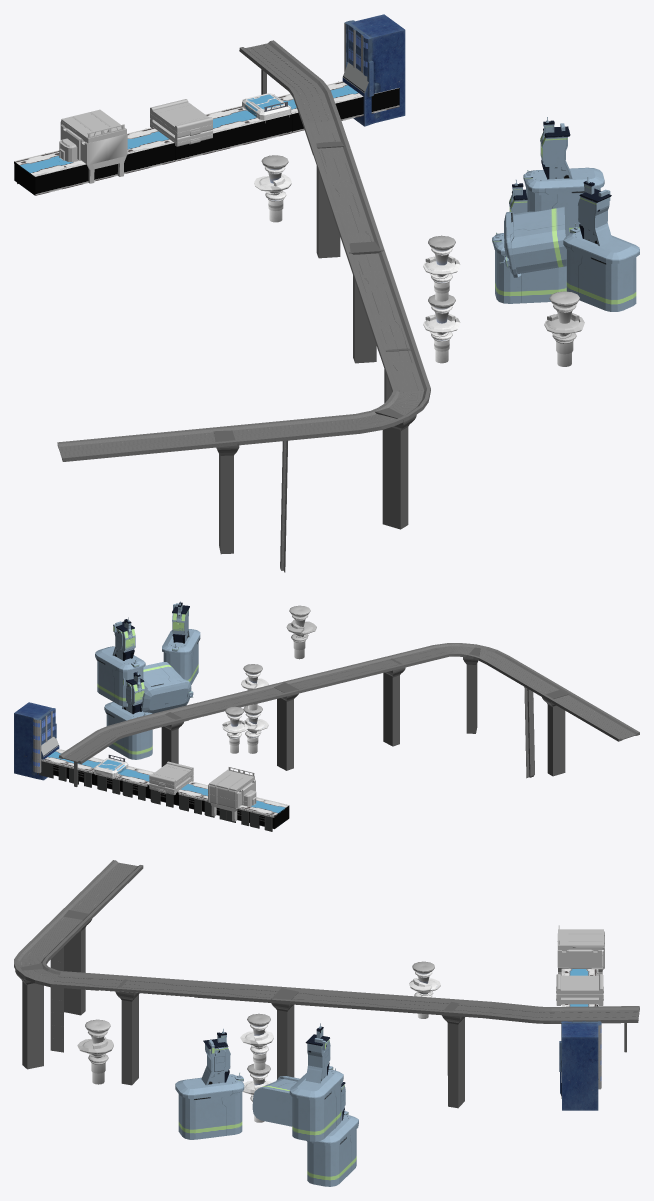
File: CityALL.fbx
3 renders of one model, top to bottom at view 1: azimuth 30°, elevation 25°; view 2: azimuth 150°, elevation 25°; view 3: azimuth 270°, elevation 25°, orthographic. The views are drawn at different scales.
Parts seen in each view (by area): view 1: KB3D_HTS_Road_H_Main_001_001, 立方體_003, Cube_031, 立方體_013, 立方體_004, Cube_244, 立方體_010, 立方體_008, 立方體_009, Cube_010, 圓柱體_006, 立方體_006 (+11 smaller); view 2: KB3D_HTS_Road_H_Main_001_001, Cube_031, 立方體_013, 立方體_010, 立方體_004, 立方體_003, 立方體_009, 立方體_006, 立方體_007, Cube_244, 立方體_008, Cube_010 (+16 smaller); view 3: KB3D_HTS_Road_H_Main_001_001, 立方體_003, 立方體_013, Cube_031, 立方體_010, 立方體_008, Cube_244, 立方體_011, 立方體_007, 立方體_004, 立方體_006, 立方體_009 (+6 smaller).
Part boxes in pixels (x1,y1,x2,y2): KB3D_HTS_Road_H_Main_001_001: [57, 40, 430, 461]; 立方體_003: [563, 177, 639, 311]; Cube_031: [342, 14, 405, 126]; 立方體_013: [523, 117, 604, 233]; 立方體_004: [500, 206, 569, 277]; Cube_244: [59, 109, 127, 183]; 立方體_010: [492, 179, 566, 303]; 立方體_008: [375, 408, 416, 529]; 立方體_009: [213, 430, 239, 554]; Cube_010: [14, 153, 75, 195]; 圓柱體_006: [544, 291, 584, 366]; 立方體_006: [349, 241, 383, 363]; KB3D_HTS_Road_H_Main_001_001: [58, 643, 639, 764]; Cube_031: [14, 702, 59, 780]; 立方體_013: [95, 617, 145, 706]; 立方體_010: [104, 671, 152, 759]; 立方體_004: [141, 662, 193, 713]; 立方體_003: [162, 601, 200, 685]; 立方體_009: [542, 690, 568, 776]; 立方體_006: [274, 682, 298, 770]; 立方體_007: [383, 658, 405, 746]; Cube_244: [209, 769, 256, 821]; 立方體_008: [463, 647, 480, 733]; Cube_010: [249, 799, 289, 831]; KB3D_HTS_Road_H_Main_001_001: [14, 860, 639, 1023]; 立方體_003: [175, 1028, 244, 1139]; 立方體_013: [289, 1023, 343, 1141]; Cube_031: [559, 1021, 601, 1110]; 立方體_010: [307, 1068, 358, 1186]; 立方體_008: [15, 963, 43, 1069]; Cube_244: [557, 929, 603, 975]; 立方體_011: [442, 1001, 464, 1108]; 立方體_007: [115, 979, 139, 1085]; 立方體_004: [252, 1076, 299, 1126]; 立方體_006: [271, 987, 298, 1079]; 立方體_009: [63, 910, 91, 1015].
Size of the model in its own units: 31365 by 10834 by 30417.
